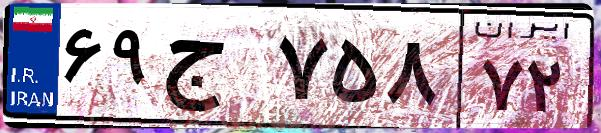2: (525, 38, 570, 115)
5: (330, 28, 385, 110)
6: (57, 26, 110, 100)
7: (270, 28, 330, 110), (475, 38, 525, 113)
8: (385, 28, 445, 110)
9: (110, 28, 158, 98)
ج: (158, 20, 270, 120)
